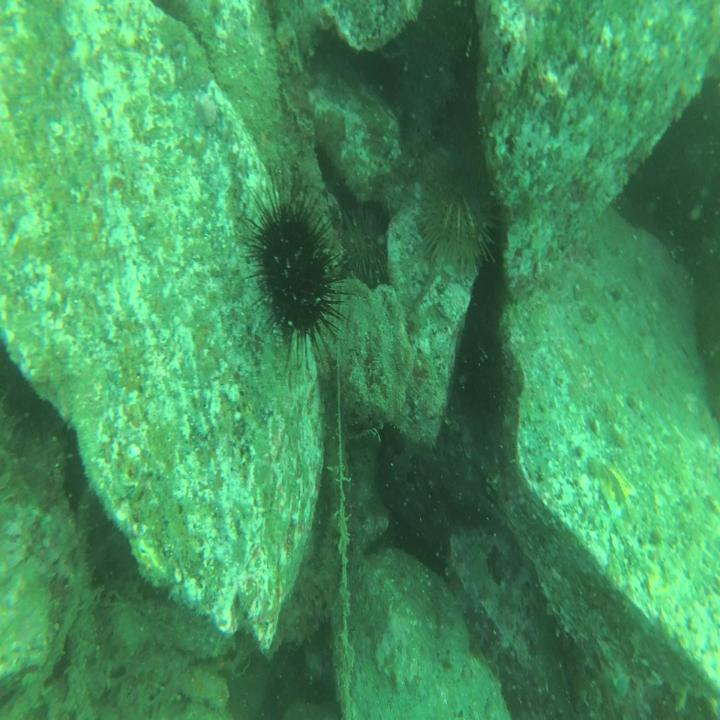echinus: (231, 166, 354, 362), (415, 156, 496, 267), (335, 201, 393, 281)
